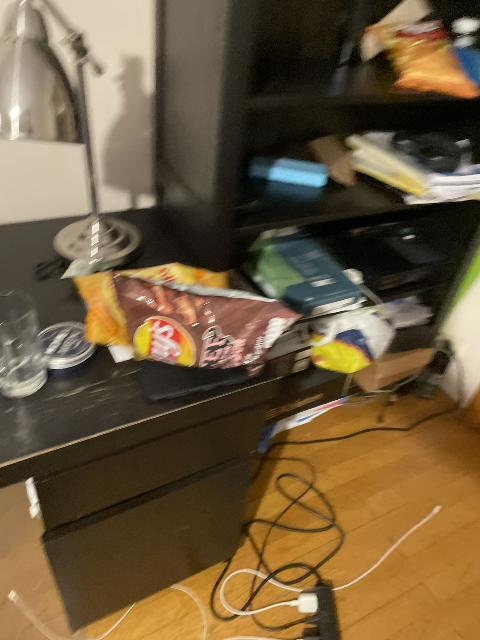Chio Hula Hoops Cheese 70g: (71, 259, 230, 342)
Lays Beef Grilled Ribs 125g: (107, 271, 301, 371)
